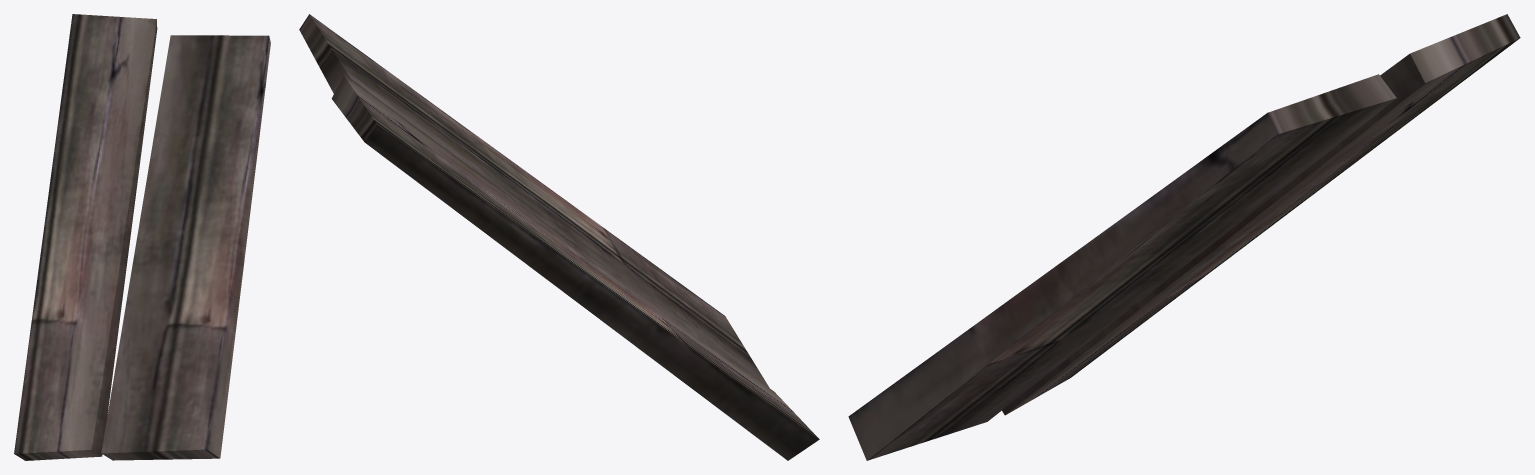
The model's file is pir_m_prp_swm_ramp_small.fbx.
The picture shows the model from 3 angles, left to right: view 1: azimuth 30°, elevation 25°; view 2: azimuth 150°, elevation 25°; view 3: azimuth 270°, elevation 25°; orthographic projection. The views are drawn at different scales.
Parts seen in each view (by area): view 1: TablePlank192, TablePlank193; view 2: TablePlank193, TablePlank192; view 3: TablePlank192, TablePlank193.
Boxes of the visible parts, <box> form: TablePlank192: <box>101,35,270,460</box>; TablePlank193: <box>14,14,157,460</box>; TablePlank193: <box>331,75,819,460</box>; TablePlank192: <box>299,14,769,387</box>; TablePlank192: <box>848,74,1396,460</box>; TablePlank193: <box>1002,14,1520,415</box>.
Bounding box in the file's own units: 855 × 778 × 924.
Materials: 1 (1 with a texture image).
